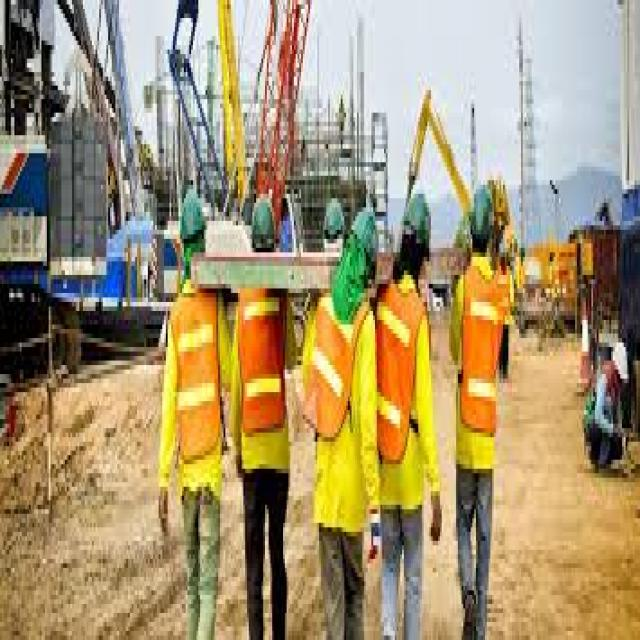Reflective-Jacket: (308, 284, 377, 536), (159, 275, 225, 509), (373, 270, 438, 500), (451, 252, 514, 478), (233, 270, 292, 478)
Safety-Helmet: (395, 171, 436, 266), (463, 167, 503, 257), (173, 176, 211, 257), (247, 185, 279, 257), (350, 196, 384, 262), (319, 185, 348, 252), (611, 333, 631, 388)
